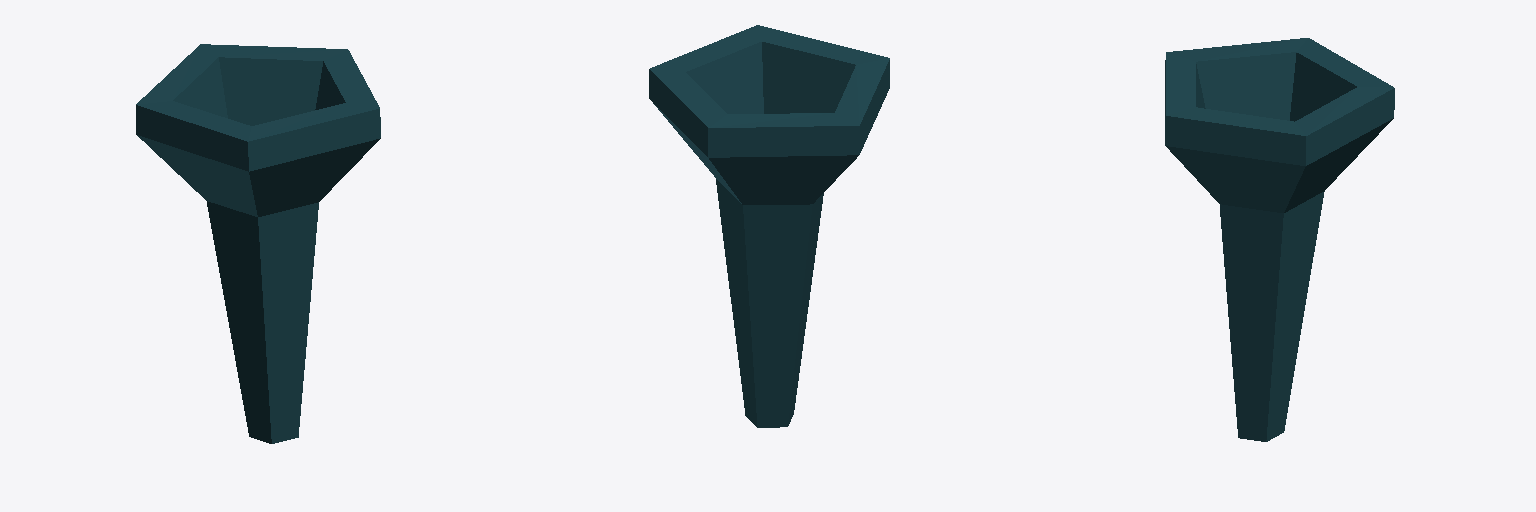
Rendered from torch.obj.
3 views of the same model, side by side, from view 1: azimuth 30°, elevation 25°; view 2: azimuth 150°, elevation 25°; view 3: azimuth 270°, elevation 25° (orthographic).
Visible parts, largest first — view 1: Circle; view 2: Circle; view 3: Circle.
Boxes of the visible parts, box(x1,y1,x2,y2) form: Circle: box(136, 44, 380, 443); Circle: box(649, 25, 889, 427); Circle: box(1165, 38, 1394, 441).
Size of the model in its own units: 1.93 by 3 by 1.81.